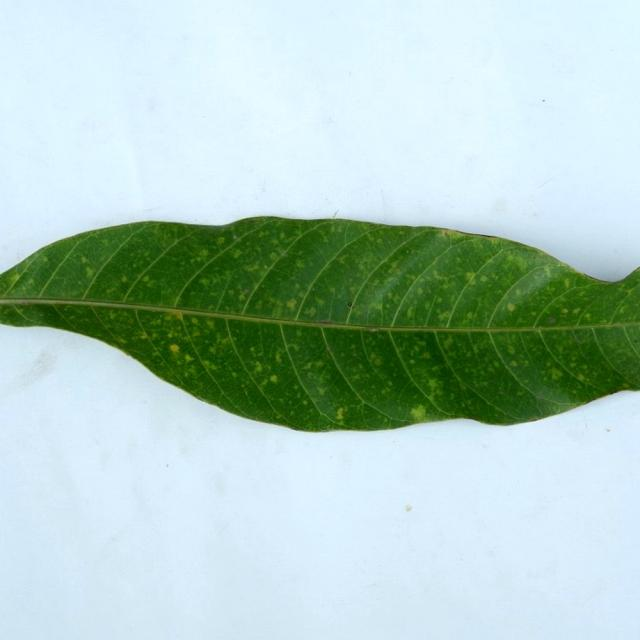Mango: (0, 218, 639, 431)
Powdery_Mildew: (409, 406, 428, 421), (7, 272, 21, 285), (168, 309, 184, 319), (198, 277, 212, 288), (427, 379, 439, 390), (189, 318, 201, 329), (286, 299, 297, 310), (245, 264, 258, 273), (551, 368, 562, 378), (254, 301, 265, 311), (336, 407, 345, 418), (253, 362, 262, 373), (439, 312, 450, 321), (303, 362, 315, 370), (85, 267, 94, 277), (465, 272, 475, 281), (274, 353, 283, 363), (372, 357, 382, 366), (411, 347, 420, 357), (294, 283, 303, 293), (198, 250, 208, 259), (169, 344, 180, 352), (371, 303, 382, 311), (506, 303, 515, 312), (307, 307, 316, 316), (259, 379, 268, 388), (269, 252, 278, 261), (204, 361, 213, 370), (184, 354, 194, 362), (490, 237, 500, 245), (408, 307, 416, 317), (216, 237, 226, 245), (338, 258, 348, 266), (233, 251, 242, 259), (270, 375, 278, 383), (317, 387, 325, 395), (238, 292, 246, 300), (507, 346, 515, 354), (415, 287, 423, 295), (209, 347, 217, 355), (295, 260, 303, 268), (390, 262, 399, 269), (275, 413, 284, 420), (547, 316, 556, 323), (480, 275, 488, 282), (140, 333, 148, 340), (564, 278, 570, 287), (80, 256, 87, 263), (466, 312, 473, 319), (142, 275, 149, 282), (423, 351, 430, 358), (28, 279, 35, 286), (510, 361, 518, 367), (121, 276, 127, 283), (561, 308, 568, 314), (329, 287, 335, 294), (383, 416, 389, 423), (443, 230, 449, 237), (280, 251, 287, 257), (231, 372, 237, 378), (302, 399, 308, 405), (409, 359, 415, 365)
